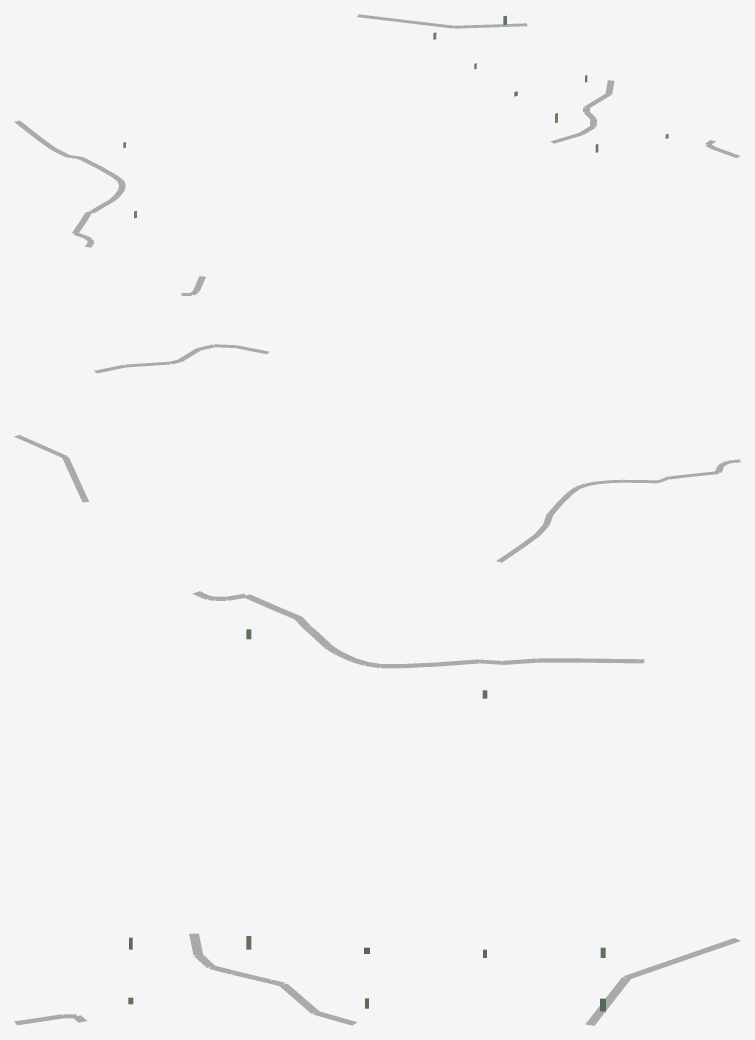
3 views of the same model, one above another, from view 1: azimuth 30°, elevation 25°; view 2: azimuth 150°, elevation 25°; view 3: azimuth 270°, elevation 25° (orthographic). The views are drawn at different scales.
Size of the model in its own units: 508 by 19.16 by 369.
